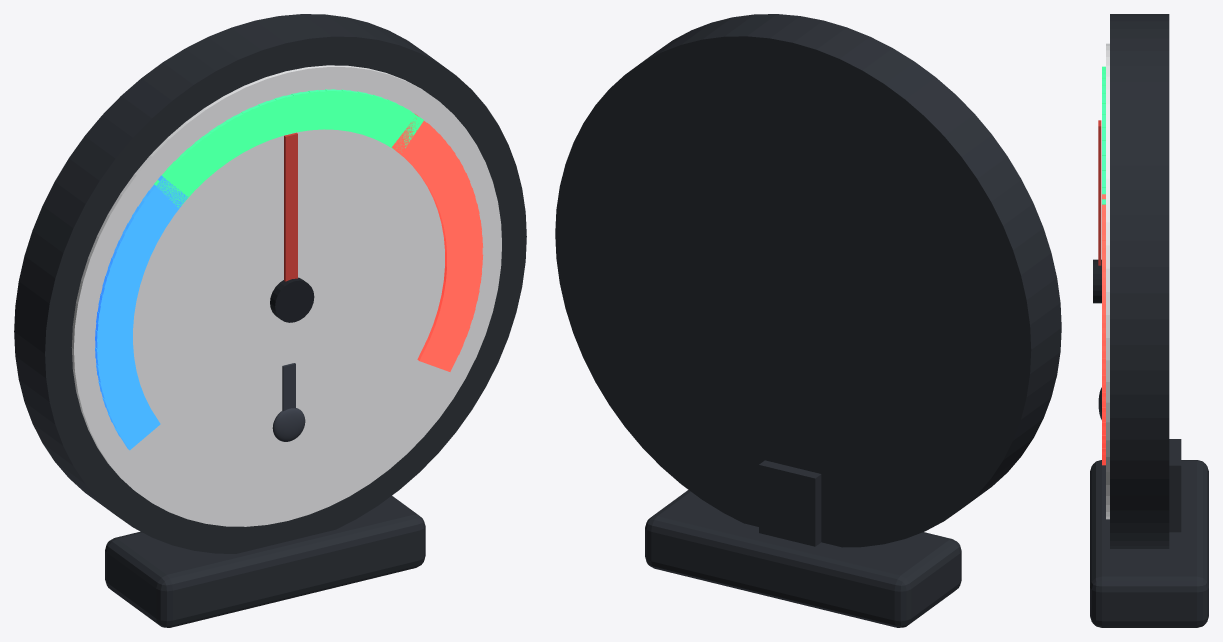
File: medidor_temperatura.glb
3 renders of one model, left to right at view 1: azimuth 30°, elevation 25°; view 2: azimuth 150°, elevation 25°; view 3: azimuth 270°, elevation 25°, orthographic. The views are drawn at different scales.
Visible parts, largest first — view 1: Cylinder.001, Cylinder, Cube, aguja, Cube.050, Cube.044, Cube.009, Cube.030, Cube.032, Cube.022, Cube.018, Cube.040 (+32 smaller); view 2: Cylinder, Cube, Cube.001; view 3: Cylinder, Cube, Cylinder.001, Cube.001, aguja.
Part boxes in pixels (<box>): Cylinder.001: <box>71,65,501,526</box>; Cylinder: <box>14,14,526,553</box>; Cube: <box>105,496,425,627</box>; aguja: <box>270,132,314,322</box>; Cube.050: <box>417,334,463,371</box>; Cube.044: <box>445,237,482,273</box>; Cube.009: <box>95,308,134,341</box>; Cube.030: <box>331,89,368,132</box>; Cube.032: <box>357,94,397,140</box>; Cube.022: <box>209,115,248,164</box>; Cube.018: <box>154,161,199,208</box>; Cube.040: <box>433,173,475,217</box>; Cylinder: <box>555,14,1061,547</box>; Cube: <box>645,490,961,627</box>; Cube.001: <box>759,460,821,546</box>; Cylinder: <box>1110,14,1169,548</box>; Cube: <box>1090,460,1208,627</box>; Cylinder.001: <box>1106,43,1109,519</box>; Cube.001: <box>1169,439,1181,532</box>; aguja: <box>1093,120,1101,303</box>.
Bounding box in the file's own units: 2.7 × 2.95 × 0.6.
